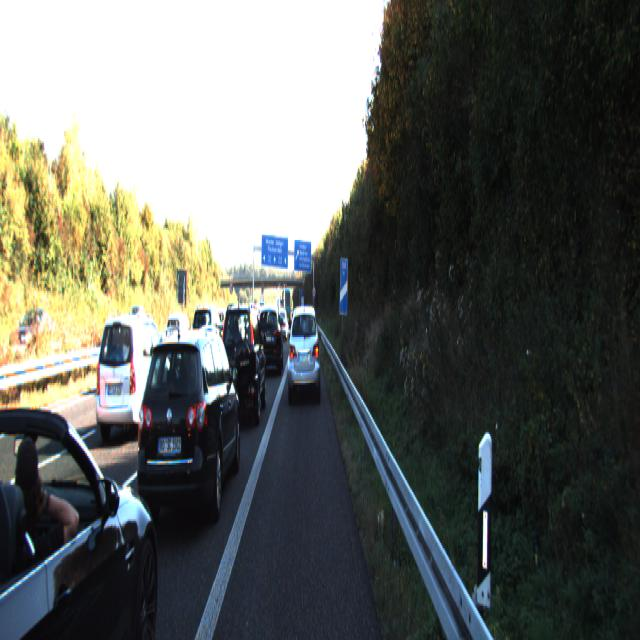Car: (0, 373, 170, 638), (132, 321, 242, 545), (94, 310, 173, 444), (215, 302, 267, 430), (287, 302, 321, 403), (188, 305, 224, 383), (256, 301, 284, 376), (164, 311, 195, 366)
